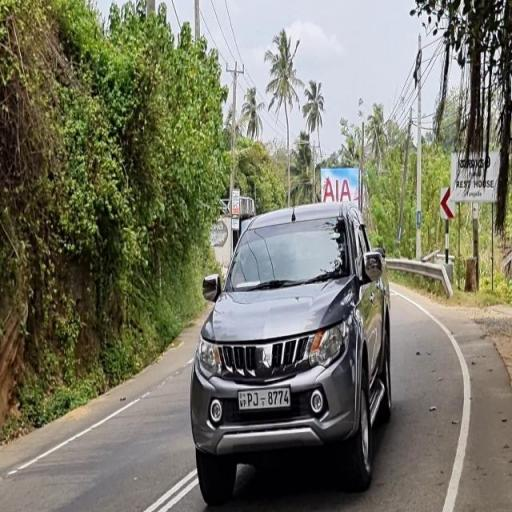double_white_line: (142, 469, 196, 511)
